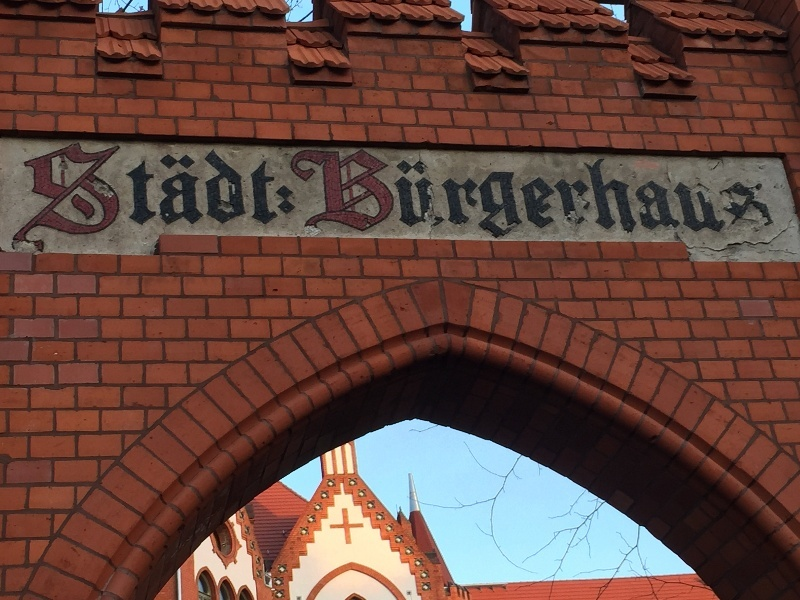text: (33, 143, 48, 258), (49, 143, 64, 258), (65, 143, 80, 258), (81, 143, 96, 258), (97, 143, 112, 258), (113, 143, 128, 258), (129, 143, 144, 258), (145, 143, 160, 258), (161, 143, 176, 258), (177, 143, 192, 258), (193, 143, 208, 258), (209, 143, 224, 258), (225, 143, 240, 258), (241, 143, 256, 258), (257, 143, 272, 258), (273, 143, 288, 258), (433, 150, 449, 231), (289, 150, 304, 231), (305, 150, 320, 231), (321, 150, 336, 231), (337, 150, 352, 231), (353, 150, 368, 231), (369, 150, 384, 231), (385, 150, 400, 231), (401, 150, 416, 231), (417, 150, 432, 231), (449, 159, 464, 240), (465, 159, 480, 240), (481, 159, 496, 240), (497, 159, 512, 240), (513, 159, 528, 240), (529, 159, 544, 240), (545, 159, 560, 240), (561, 159, 576, 240), (577, 159, 592, 240), (593, 159, 608, 240), (609, 159, 624, 240), (625, 159, 640, 240), (641, 159, 656, 240), (657, 159, 672, 240), (673, 159, 688, 240), (689, 159, 704, 240), (705, 159, 720, 240), (721, 159, 736, 240), (737, 159, 752, 240), (753, 159, 768, 240), (22, 143, 32, 258), (289, 143, 297, 258), (437, 159, 448, 240), (769, 159, 779, 240)
